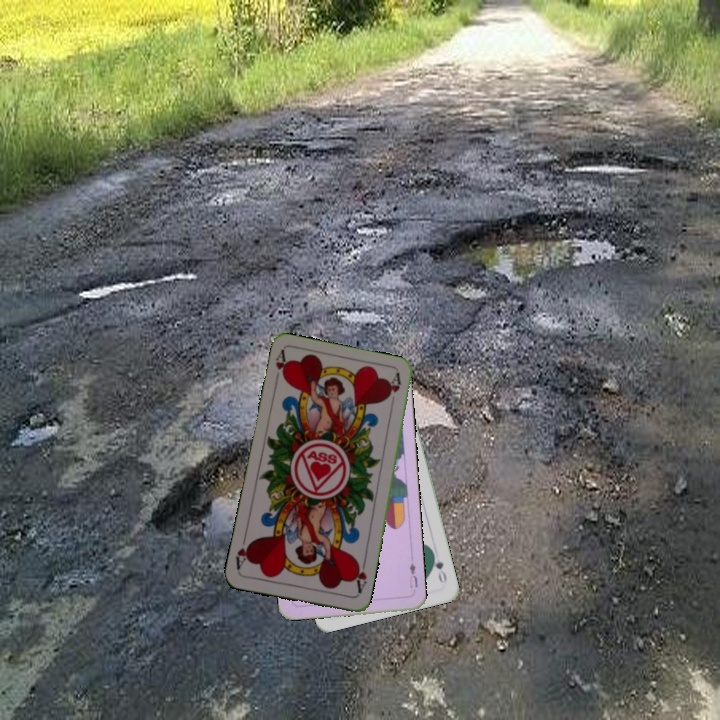EU: (405, 559, 420, 591)
GO: (428, 548, 449, 586)
HA: (271, 347, 291, 388), (350, 556, 369, 597)
